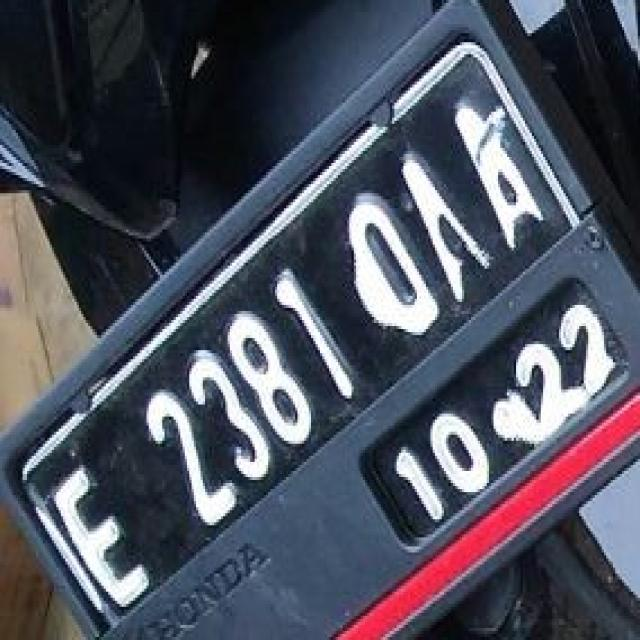plate: (0, 3, 622, 628)
